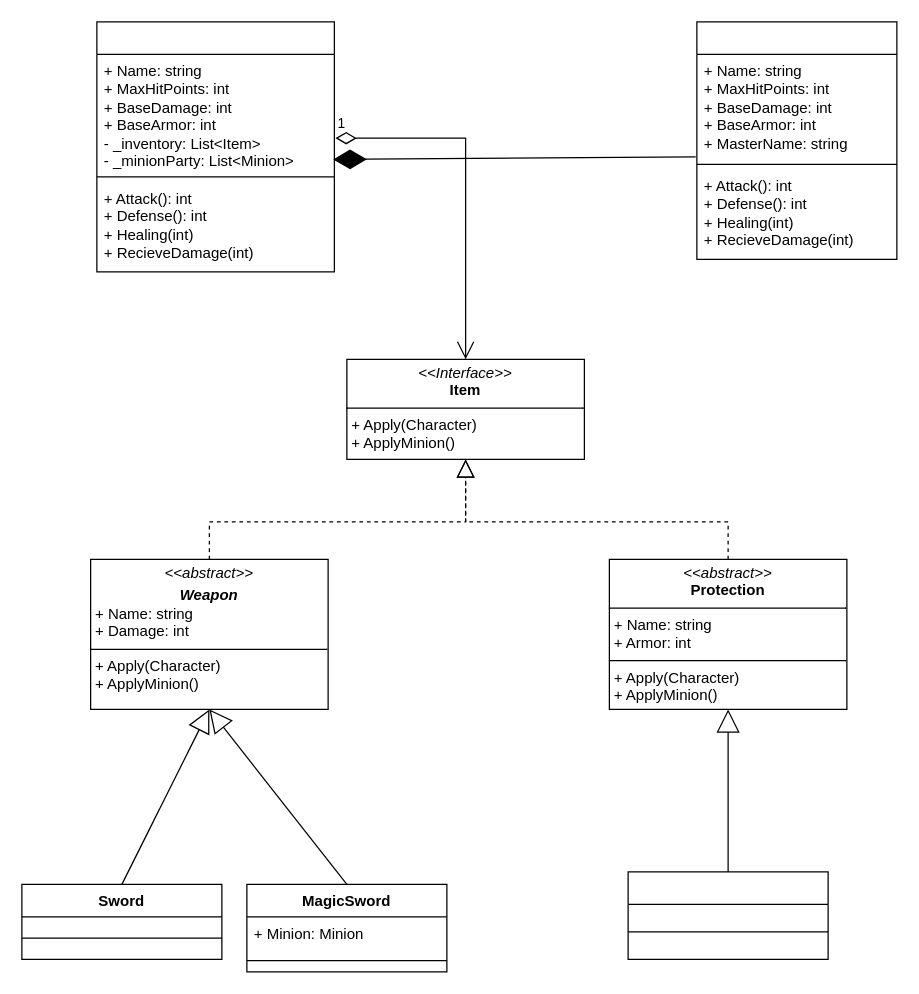
Image size: 919x994. Some labels were removed from this diagram. The box of each missing label's shape, as (x1, y1, x2, y2) in pixels:
Character: (96, 21, 334, 272)
Minion: (696, 21, 897, 259)
Shield: (627, 871, 828, 959)
